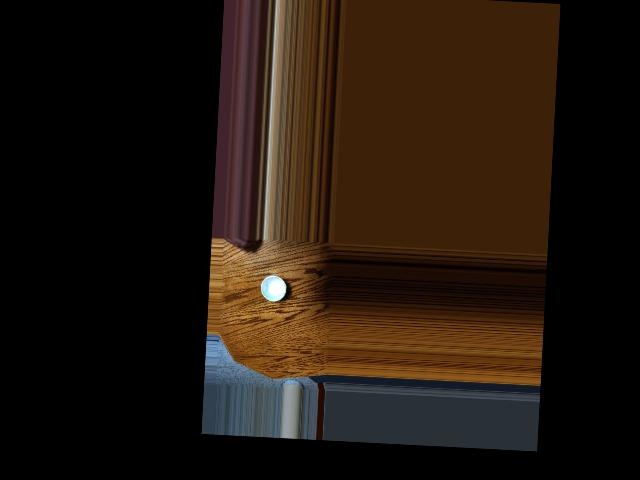cotage: (258, 271, 286, 304)
